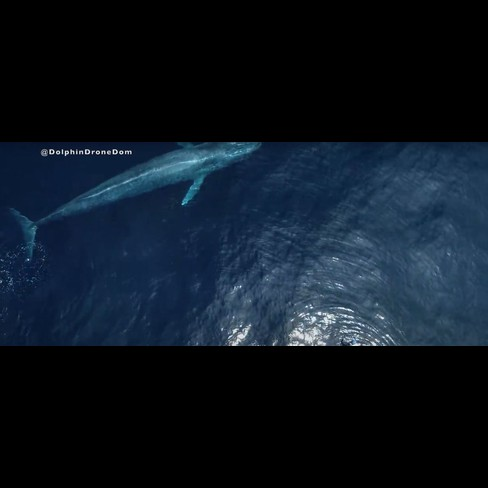bluewhale: (9, 142, 267, 263)
